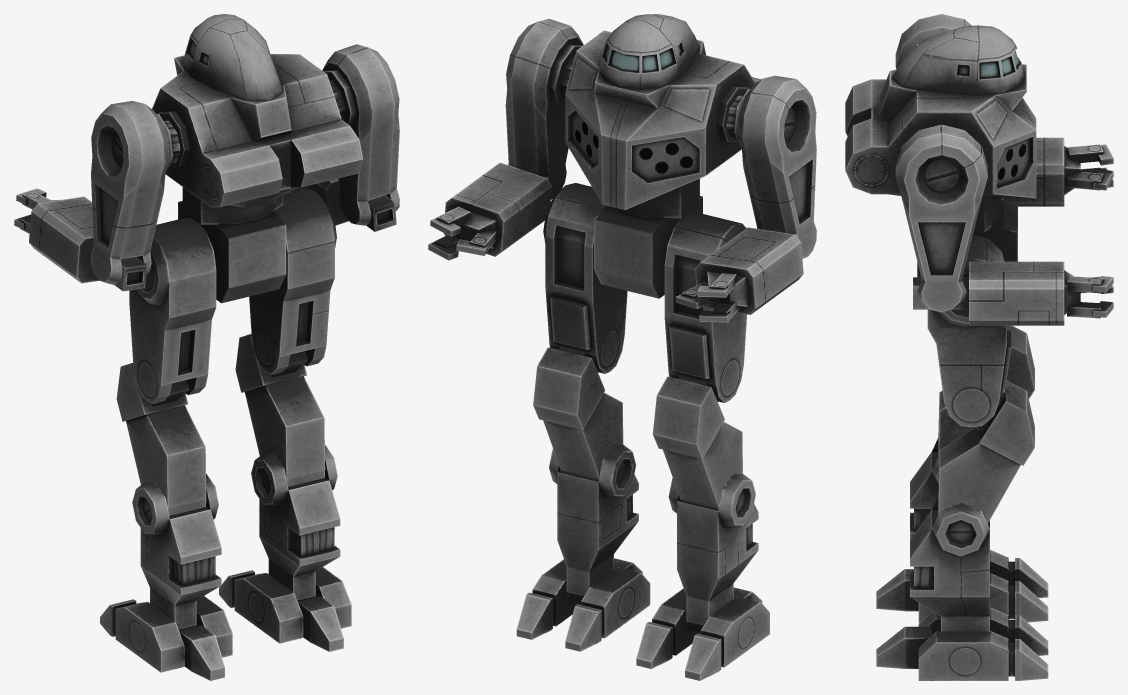
The model's file is Kabuto.FBX.
3 views of the same model, side by side, from view 1: azimuth 30°, elevation 25°; view 2: azimuth 150°, elevation 25°; view 3: azimuth 270°, elevation 25° (orthographic).
Visible parts, largest first — view 1: torso, lupperleg, lupperarm, rupperleg, rupperarm, rfoot, lfoot, llowerleg, rlowerleg, llowerarm, pelvis, lfronttoes (+4 smaller); view 2: torso, lupperarm, rupperleg, lupperleg, rupperarm, rfoot, lfoot, rlowerleg, llowerleg, rlowerarm, llowerarm, rfronttoes (+2 smaller); view 3: torso, rupperarm, rfoot, rlowerarm, rupperleg, rlowerleg, rfronttoes, llowerarm, lfronttoes, llowerleg, lfoot, rbacktoe (+3 smaller).
Part boxes in pixels (left/top/right/bottom): torso: left=152, top=14, right=363, bottom=224; lupperleg: left=129, top=217, right=216, bottom=403; lupperarm: left=91, top=101, right=180, bottom=284; rupperleg: left=249, top=188, right=336, bottom=374; rupperarm: left=322, top=44, right=399, bottom=225; rfoot: left=251, top=445, right=340, bottom=601; lfoot: left=132, top=474, right=221, bottom=630; llowerleg: left=116, top=363, right=206, bottom=515; rlowerleg: left=235, top=334, right=325, bottom=486; llowerarm: left=14, top=188, right=146, bottom=291; pelvis: left=178, top=201, right=286, bottom=303; lfronttoes: left=100, top=596, right=232, bottom=672; torso: left=565, top=14, right=760, bottom=218; lupperarm: left=726, top=75, right=816, bottom=258; rupperleg: left=543, top=183, right=627, bottom=373; lupperleg: left=664, top=212, right=746, bottom=402; rupperarm: left=505, top=18, right=583, bottom=199; rfoot: left=549, top=444, right=638, bottom=603; lfoot: left=668, top=473, right=758, bottom=632; rlowerleg: left=533, top=347, right=623, bottom=479; llowerleg: left=652, top=376, right=742, bottom=508; rlowerarm: left=428, top=162, right=551, bottom=260; llowerarm: left=675, top=227, right=803, bottom=322; rfronttoes: left=516, top=559, right=650, bottom=651; torso: left=845, top=25, right=1036, bottom=232; rupperarm: left=895, top=124, right=987, bottom=312; rfoot: left=910, top=496, right=989, bottom=631; rlowerarm: left=913, top=261, right=1113, bottom=325; rupperleg: left=927, top=235, right=1011, bottom=427; rlowerleg: left=938, top=380, right=1034, bottom=523; rfronttoes: left=918, top=607, right=1048, bottom=680; llowerarm: left=1003, top=137, right=1113, bottom=206; lfronttoes: left=918, top=550, right=1048, bottom=623; llowerleg: left=938, top=325, right=1034, bottom=456; lfoot: left=910, top=438, right=939, bottom=538; rbacktoe: left=876, top=626, right=931, bottom=668.
Bounding box in the file's own units: 22.76 × 42.64 × 17.13.
Materials: 1 (1 with a texture image).
